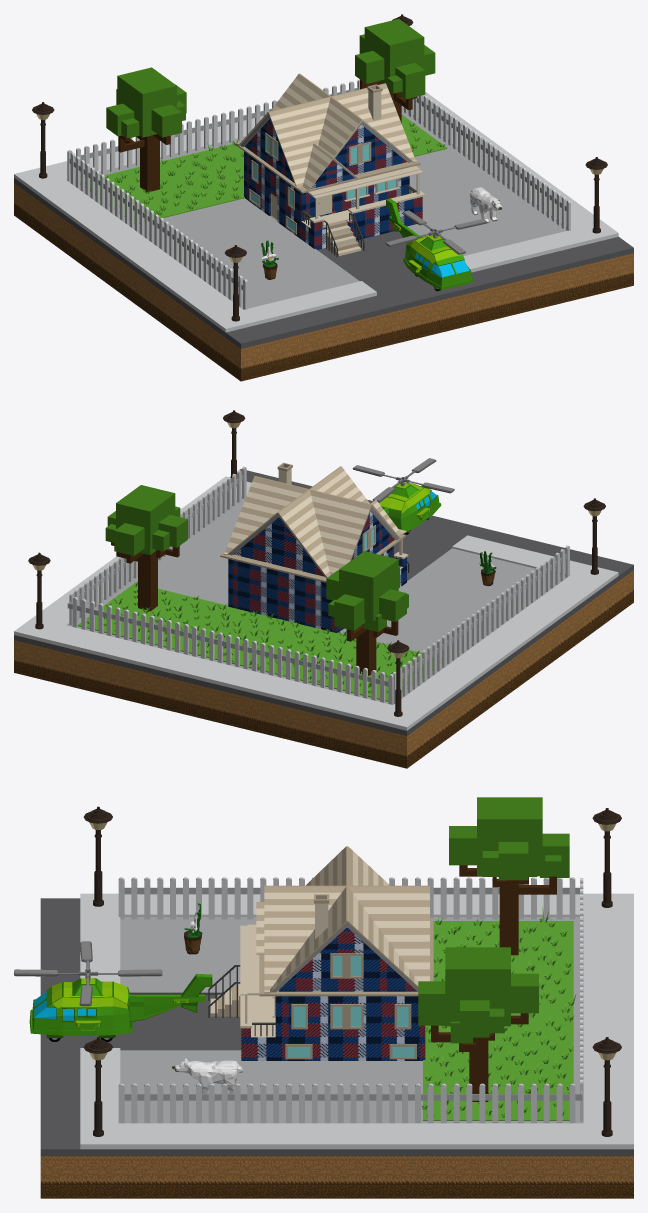
3 renders of one model, top to bottom at view 1: azimuth 30°, elevation 25°; view 2: azimuth 150°, elevation 25°; view 3: azimuth 270°, elevation 25°, orthographic. The views are drawn at different scales.
Visible parts, largest first — view 1: Cube.004, Cube.171, VEHICLES_HELICOPTER, ANIMAL_OSO_POLAR; view 2: Cube.004, Cube.171, VEHICLES_HELICOPTER; view 3: Cube.004, Cube.171, VEHICLES_HELICOPTER, ANIMAL_OSO_POLAR, OBJRANDOM_MONJA BLANCA.
Boxes of the visible parts, x1=… form: Cube.004: x1=14, y1=14, x2=633, y2=381; Cube.171: x1=235, y1=73, x2=425, y2=257; VEHICLES_HELICOPTER: x1=385, y1=198, x2=487, y2=291; ANIMAL_OSO_POLAR: x1=470, y1=187, x2=502, y2=222; Cube.004: x1=14, y1=410, x2=633, y2=768; Cube.171: x1=220, y1=462, x2=409, y2=632; VEHICLES_HELICOPTER: x1=352, y1=458, x2=454, y2=534; Cube.004: x1=40, y1=797, x2=633, y2=1198; Cube.171: x1=208, y1=846, x2=433, y2=1060; VEHICLES_HELICOPTER: x1=14, y1=941, x2=212, y2=1041; ANIMAL_OSO_POLAR: x1=172, y1=1058, x2=242, y2=1093; OBJRANDOM_MONJA BLANCA: x1=184, y1=903, x2=202, y2=954.
Size of the model in its own units: 4000 by 1609 by 4179.
Materials: 33 (4 with a texture image).
